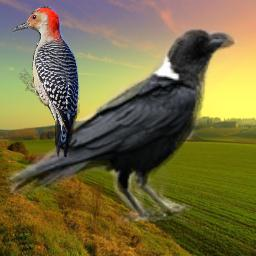Crow: (6, 21, 241, 224)
Woodpecker: (12, 6, 80, 157)
